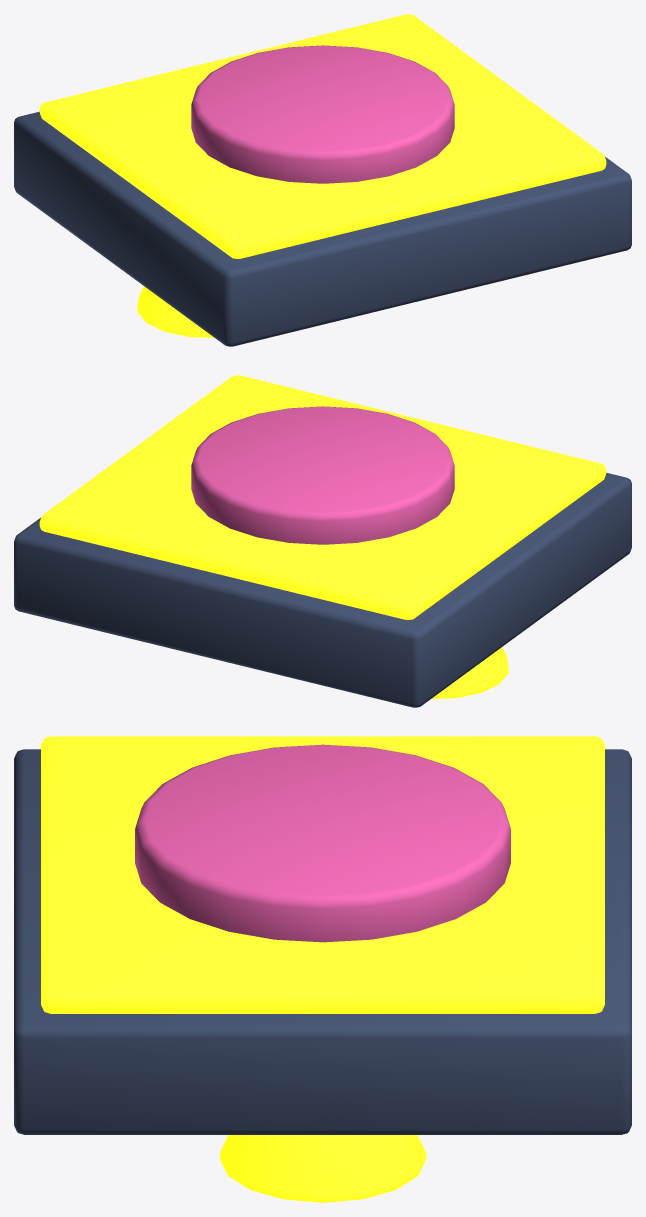
Rendered from SM_Platform_Boost.fbx.
3 renders of one model, top to bottom at view 1: azimuth 30°, elevation 25°; view 2: azimuth 150°, elevation 25°; view 3: azimuth 270°, elevation 25°, orthographic. The views are drawn at different scales.
Visible parts, largest first — view 1: SM_Platform_Boost; view 2: SM_Platform_Boost; view 3: SM_Platform_Boost.
Boxes of the visible parts, x1,y1,x2,y2 form: SM_Platform_Boost: (14,14,631,346); SM_Platform_Boost: (14,375,631,707); SM_Platform_Boost: (14,736,631,1202).
Bounding box in the file's own units: 100 × 92 × 43.
